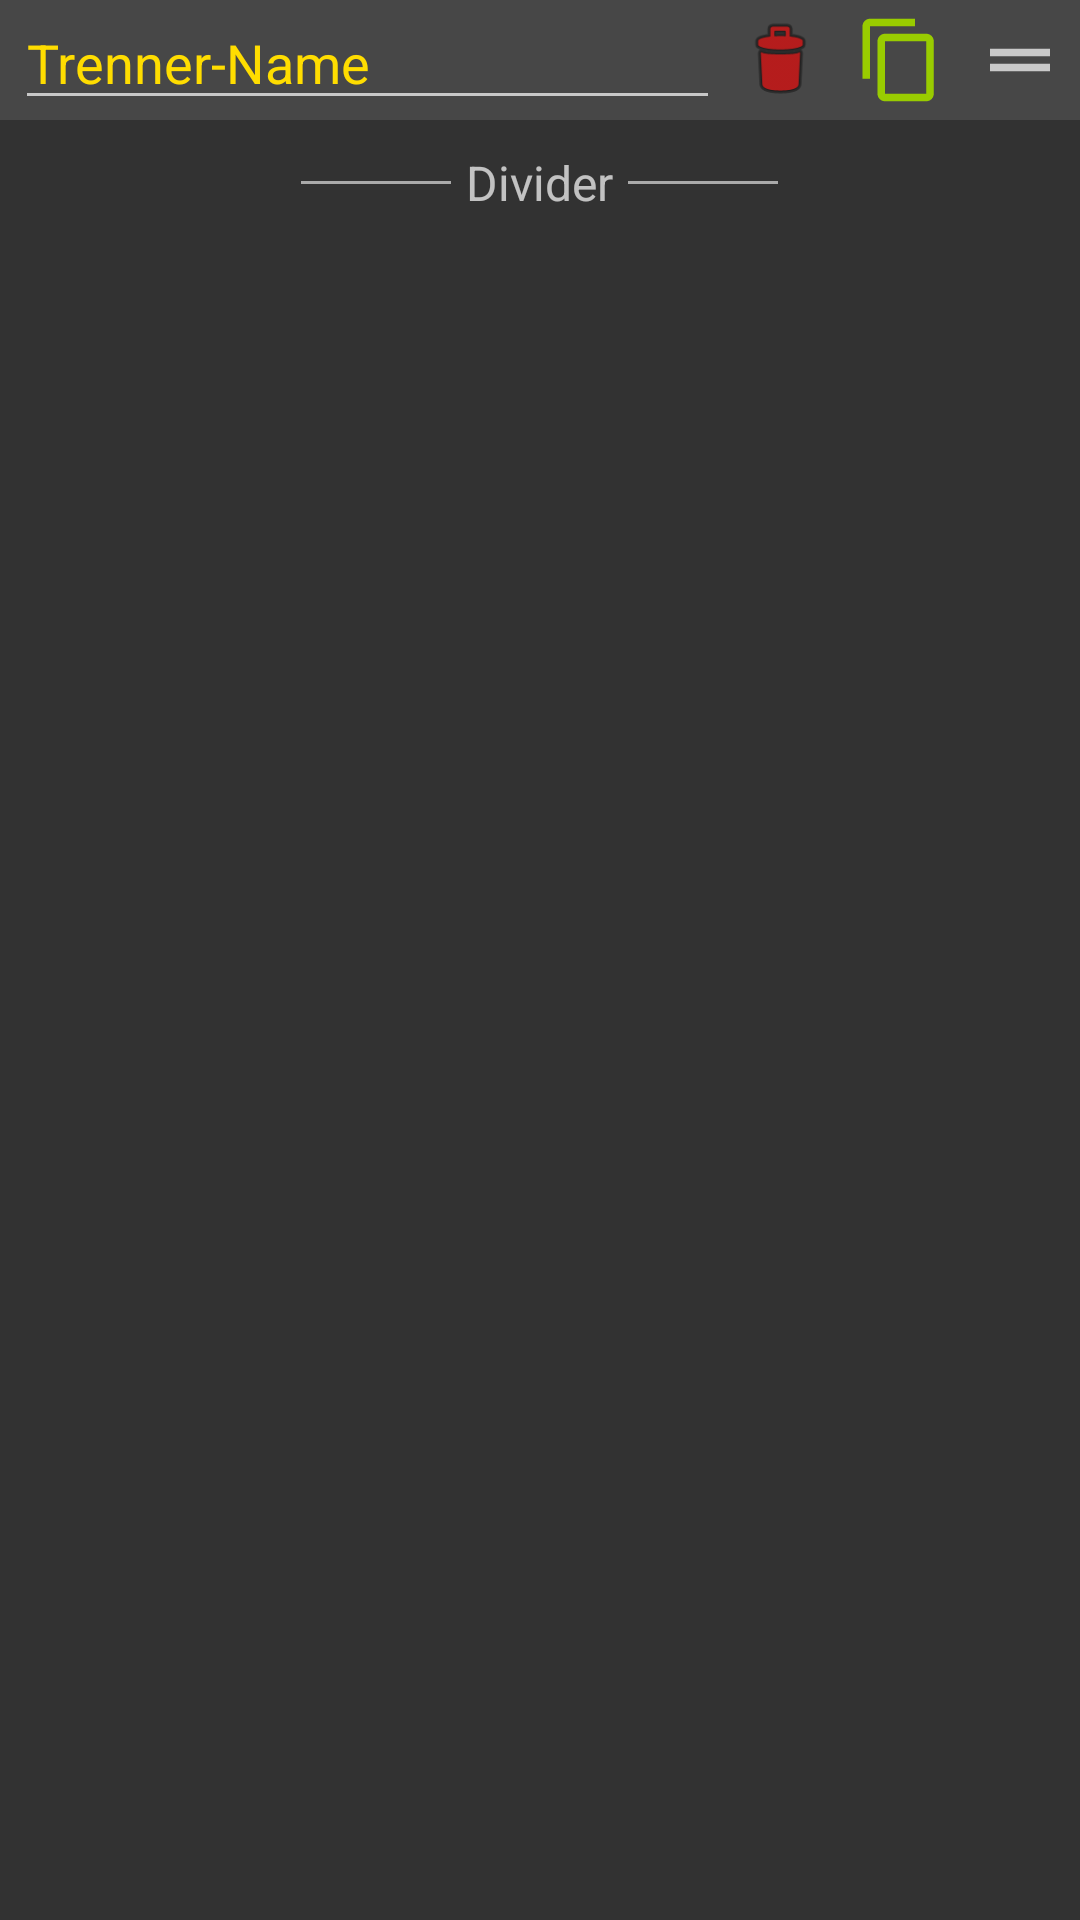

Icon bounding boxes for this 1080*1920 phone screenshot, format rect(x1, y1, x2, y2):
delete: rect(756, 24, 805, 93)
drag handle: rect(990, 48, 1050, 72)
